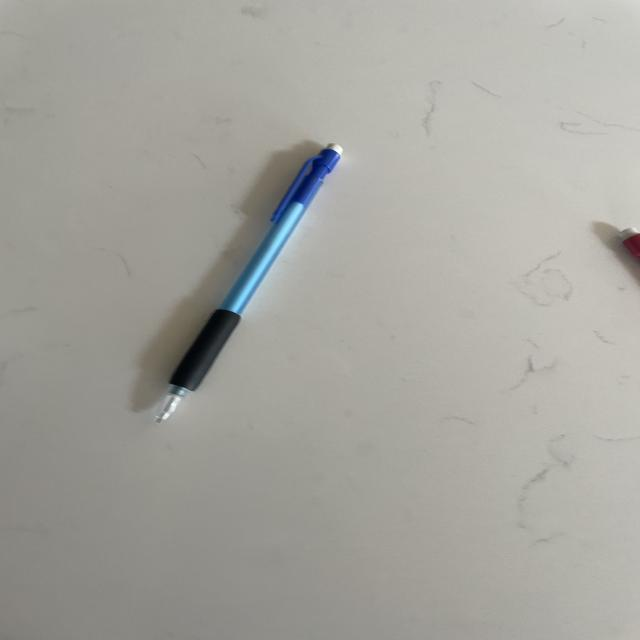mechanical-pencils: (142, 135, 366, 432)
